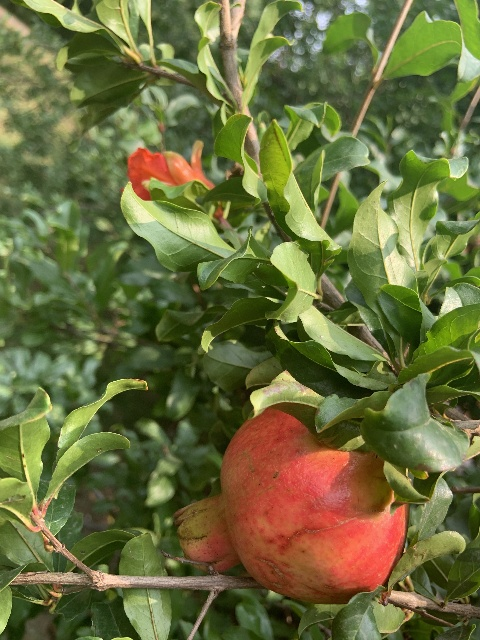flower: (124, 140, 216, 202)
ripe: (173, 406, 409, 603)
